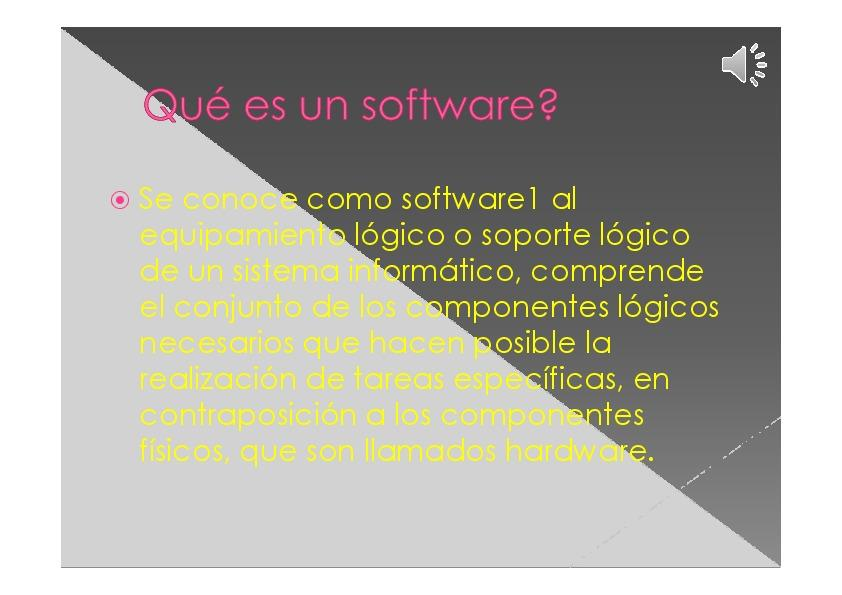paragraph: (98, 166, 744, 497)
title: (133, 65, 584, 137)
